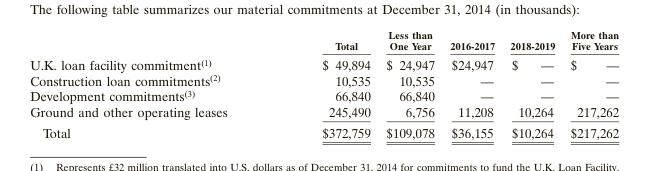table: (29, 28, 618, 139)
table column: (29, 28, 274, 139), (274, 28, 377, 139), (377, 28, 441, 139), (501, 28, 562, 139), (441, 28, 501, 139), (562, 28, 618, 139)
table column header: (29, 28, 618, 53)
table row: (29, 28, 618, 53), (29, 53, 618, 72), (29, 103, 618, 121), (29, 121, 618, 139), (29, 72, 618, 88), (29, 88, 618, 103)
